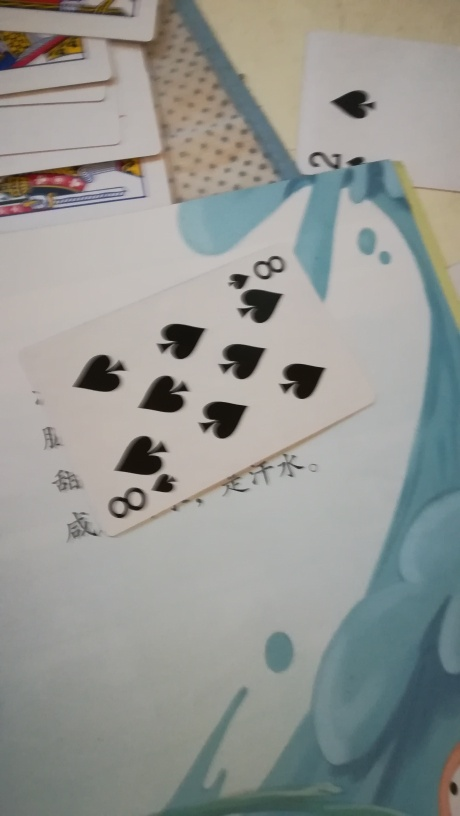ht 8: (23, 237, 378, 539)
